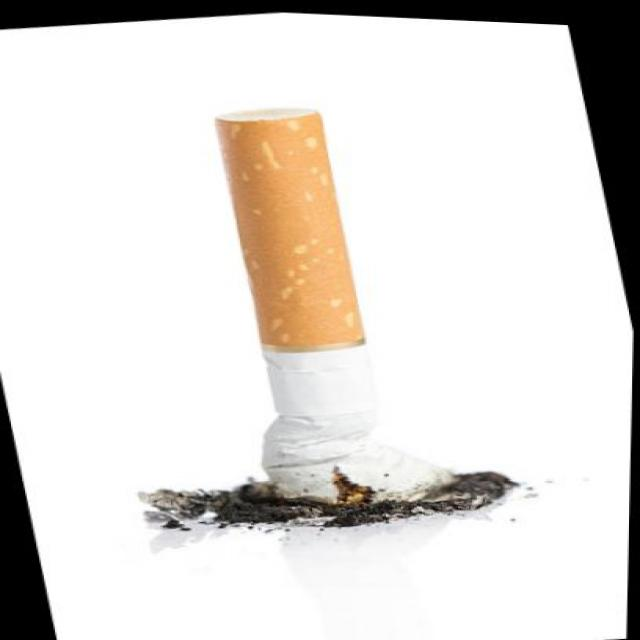cigarette: (196, 93, 428, 533)
